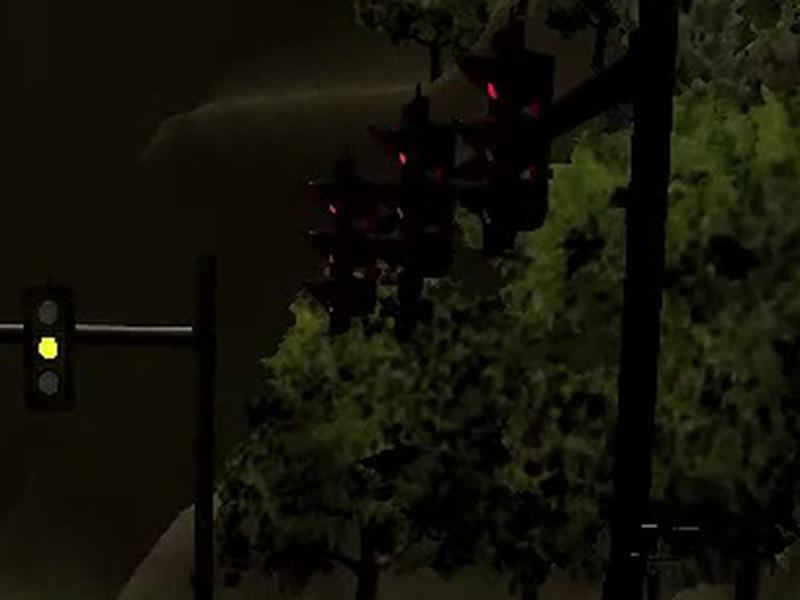Yellow: (24, 283, 74, 413)
